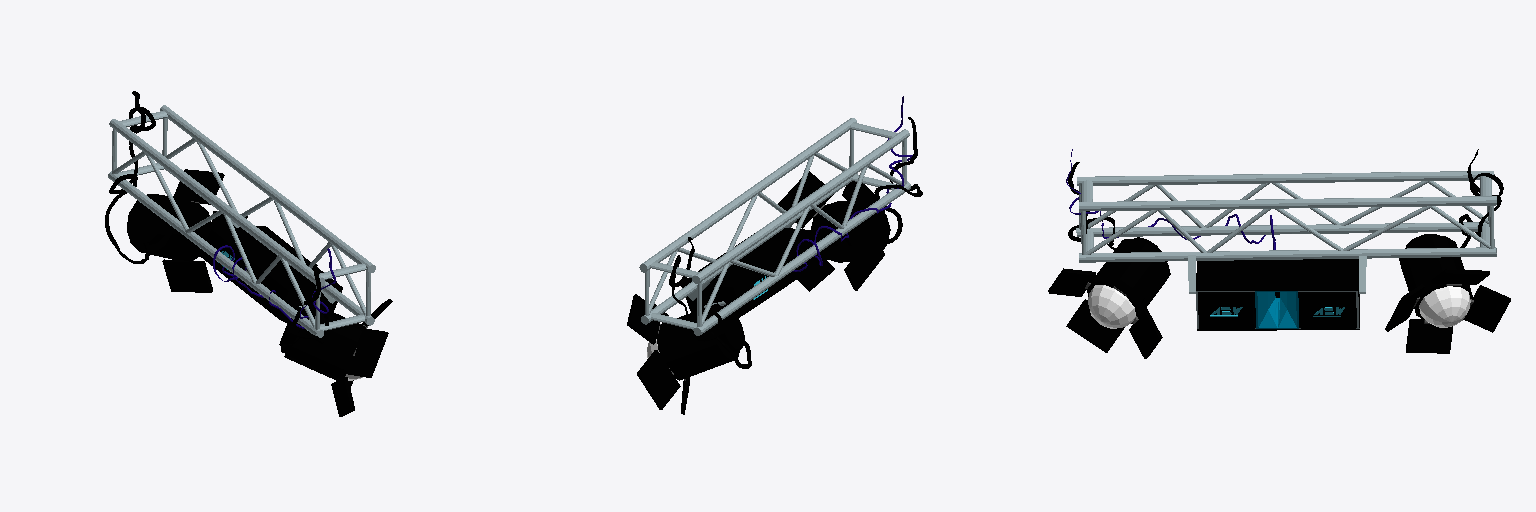
Rendered from Light.obj.
3 renders of one model, left to right at view 1: azimuth 30°, elevation 25°; view 2: azimuth 150°, elevation 25°; view 3: azimuth 270°, elevation 25°, orthographic.
Visible parts, largest first — view 1: group[number redacted], group[number redacted], group[number redacted], group[number redacted], group[number redacted], group[number redacted], group[number redacted]; view 2: group[number redacted], group[number redacted], group[number redacted], group[number redacted], group[number redacted], group[number redacted], group[number redacted]; view 3: group[number redacted], group[number redacted], group[number redacted], group[number redacted], group[number redacted].
Boxes of the visible parts, box(x1,y1,x2,y2) form: group[number redacted]: box(108, 105, 375, 337); group[number redacted]: box(127, 169, 247, 292); group[number redacted]: box(279, 299, 392, 416); group[number redacted]: box(200, 226, 342, 323); group[number redacted]: box(105, 91, 155, 263); group[number redacted]: box(281, 264, 328, 352); group[number redacted]: box(213, 245, 336, 328); group[number redacted]: box(639, 118, 910, 335); group[number redacted]: box(627, 294, 744, 414); group[number redacted]: box(778, 171, 890, 291); group[number redacted]: box(681, 228, 827, 317); group[number redacted]: box(669, 237, 751, 368); group[number redacted]: box(874, 117, 922, 243); group[number redacted]: box(792, 96, 912, 271); group[number redacted]: box(1076, 171, 1496, 262); group[number redacted]: box(1196, 259, 1359, 330); group[number redacted]: box(1385, 234, 1510, 353); group[number redacted]: box(1048, 237, 1170, 358); group[number redacted]: box(1459, 149, 1503, 247).
Size of the model in its own units: 0.5911 by 0.9165 by 1.97.